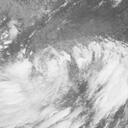cyclone: (15, 36, 119, 123)
